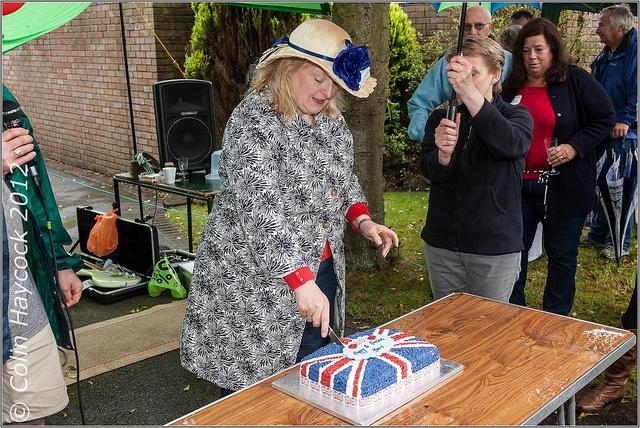Meja: (156, 290, 635, 427)
